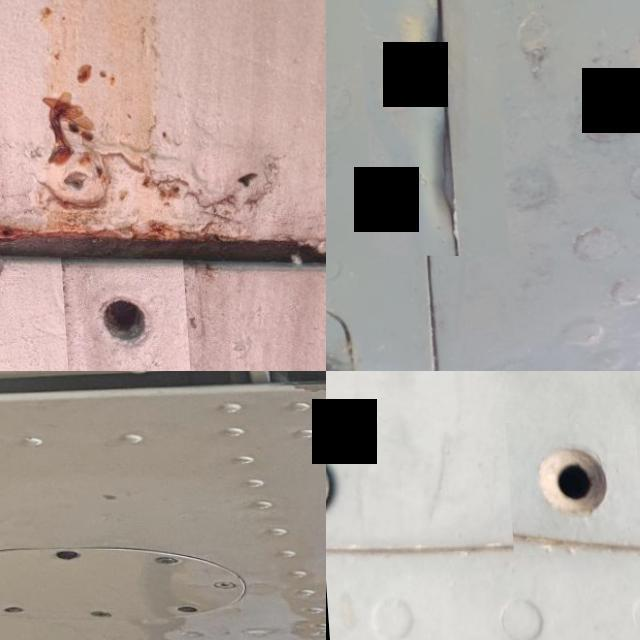Dent: (356, 0, 504, 255)
Missing_Fastener: (500, 422, 637, 556), (57, 256, 186, 371), (166, 602, 192, 616), (0, 605, 18, 616)
